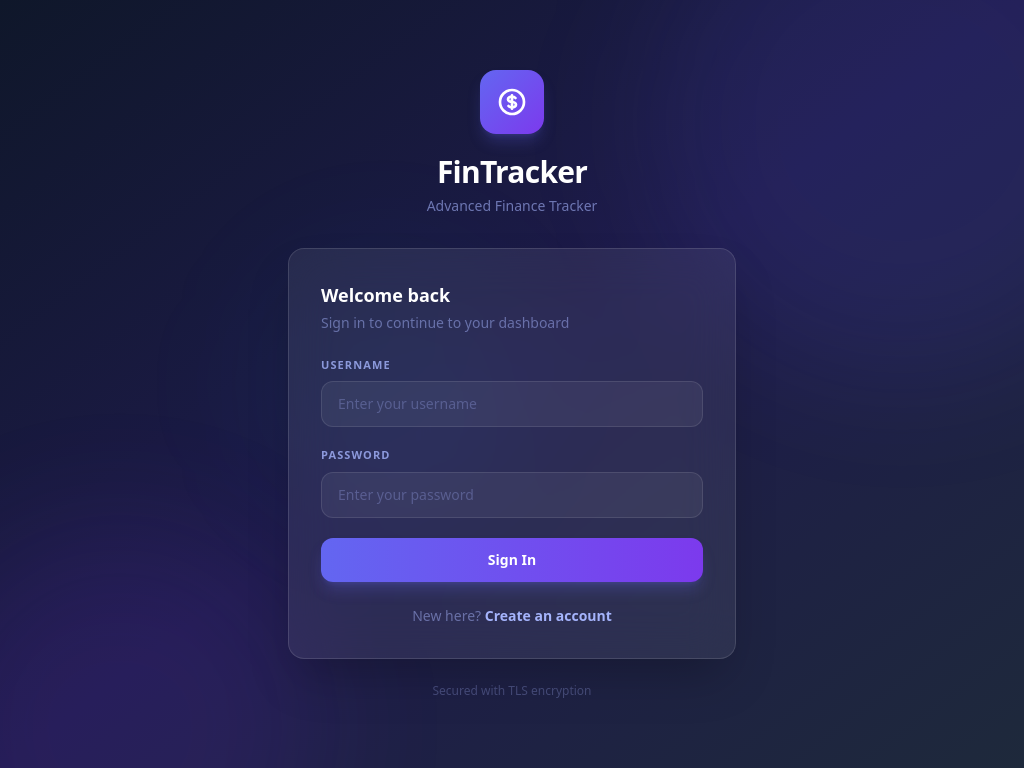
Test: Login page — form submission › displays a generic error message when login fails without a detail field
In the field labelled "Username": (512, 404) [321,381,703,427], type "alice"
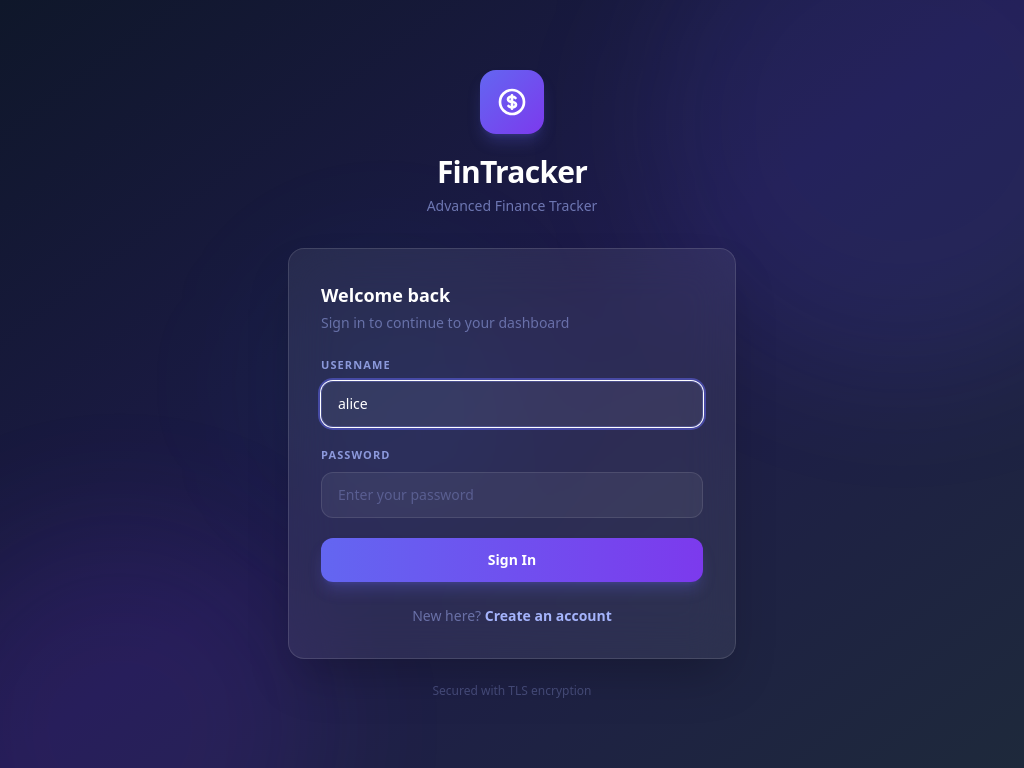
In the password field labelled "Password": (512, 494) [321,472,703,518], type "bad"
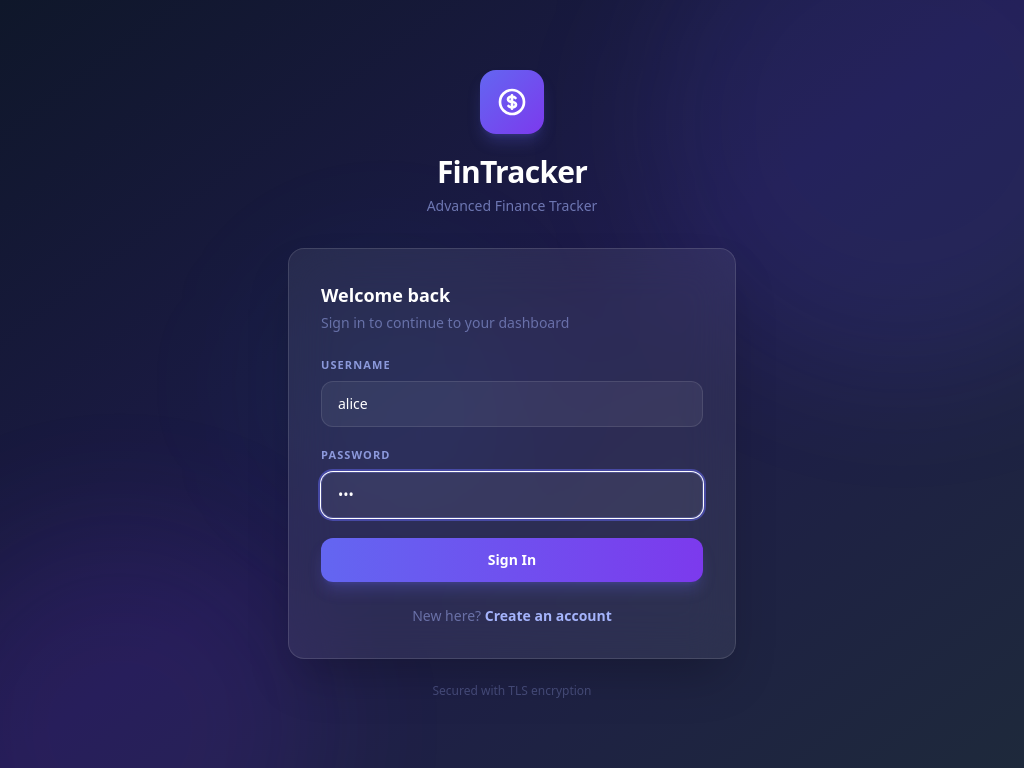
Click the button "Sign In": (512, 560) [321,538,703,582]
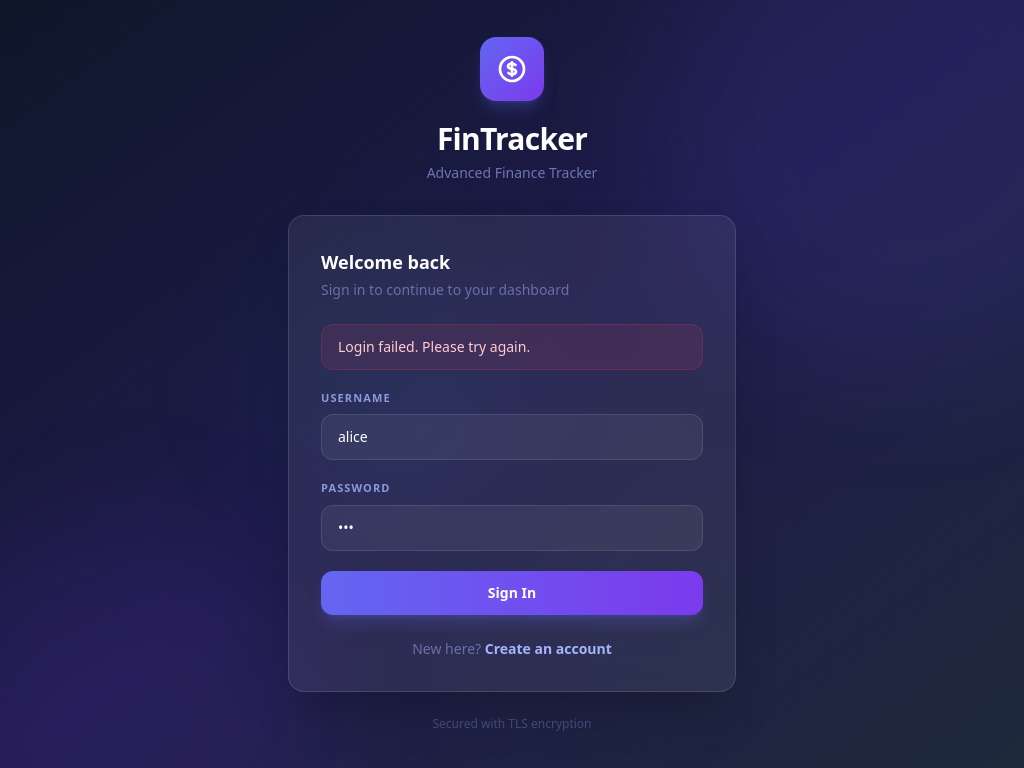
Expected: the text "Login failed. Please try again." is shown, [321,324,703,370]
